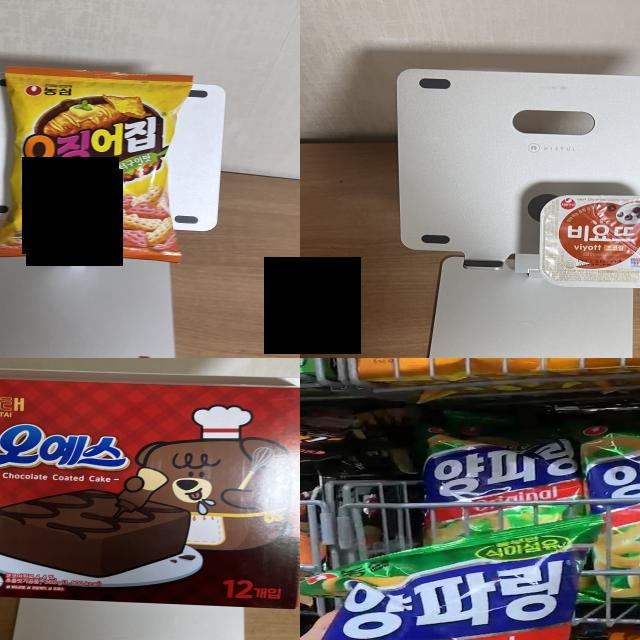bYott: (540, 190, 640, 288)
ohYes: (0, 382, 300, 599)
onionRing: (336, 557, 576, 640), (429, 430, 570, 504), (595, 429, 640, 522)
ozingZip: (3, 66, 185, 250)
